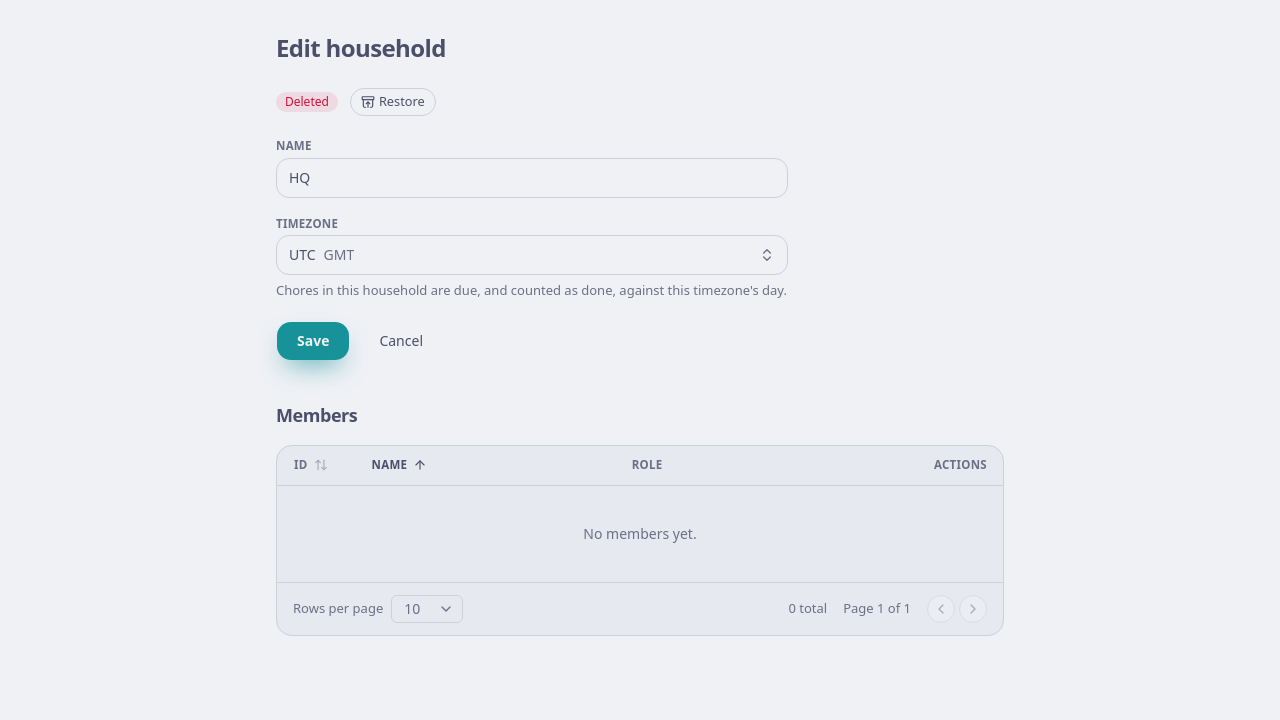
it: AdminHouseholdEdit › restores a deleted household in place
Step 1. Click the button "Restore" → (393, 102), box [350,88,436,116]
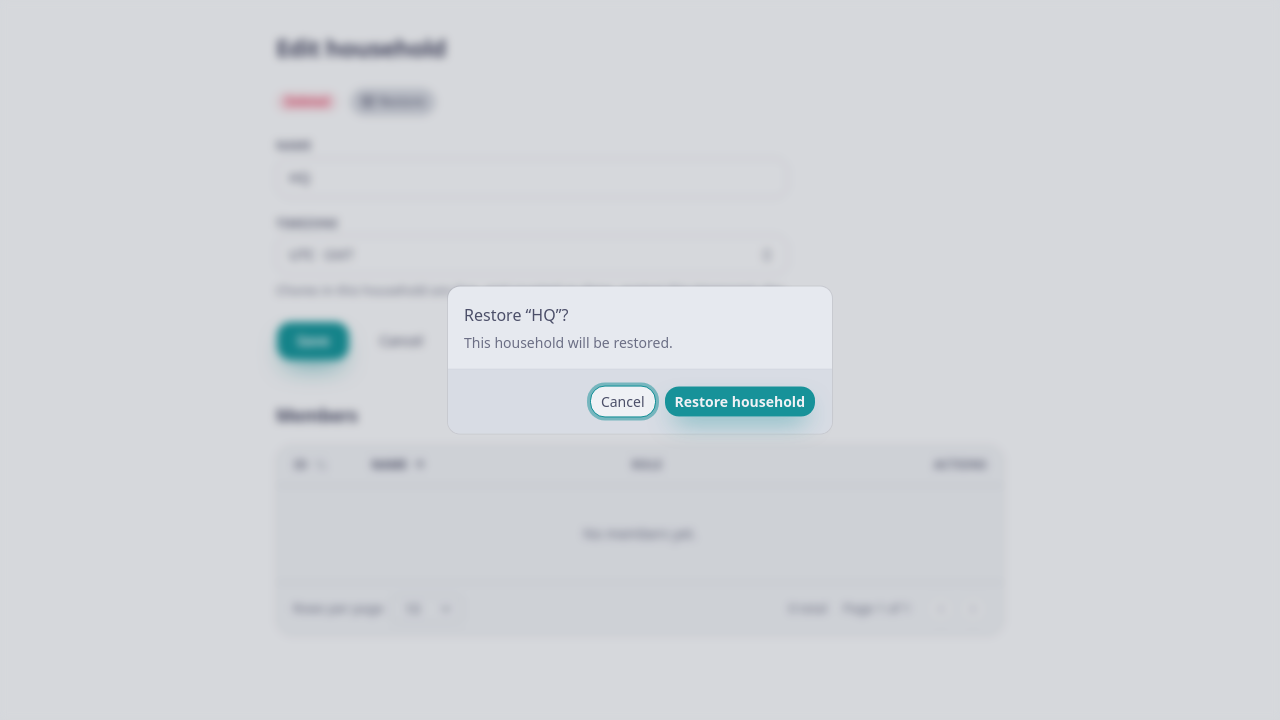
Step 2. Click the button "Restore household" → (740, 402), box [664,386,816,418]
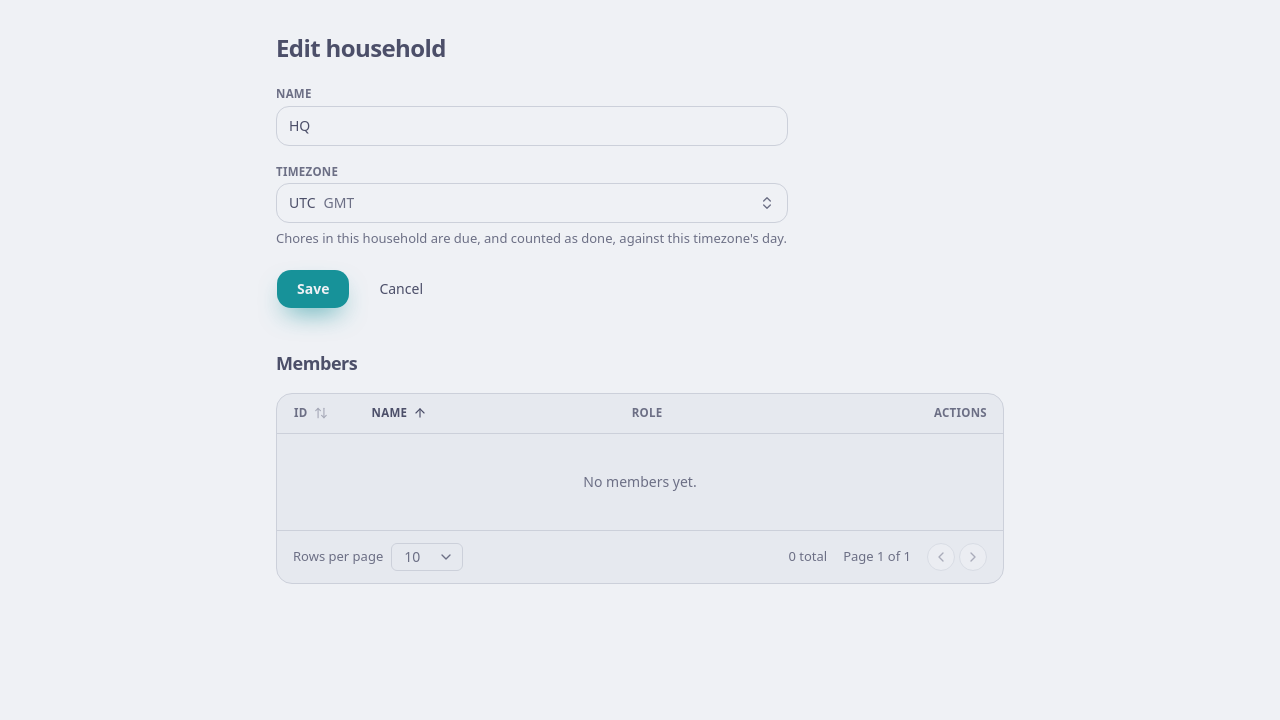
Check: the button "Restore" is gone
